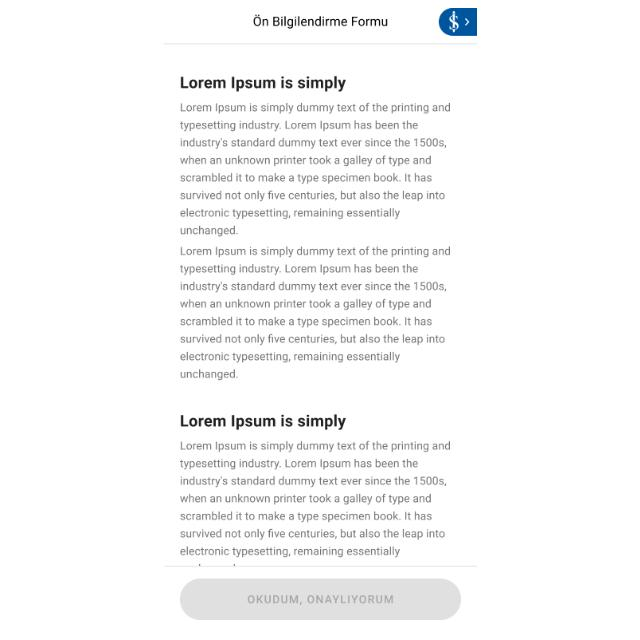QLabel: (174, 99, 456, 388), (175, 440, 458, 560), (176, 74, 350, 92), (174, 412, 346, 430), (250, 14, 388, 28), (242, 594, 398, 604)
VAppBar: (164, 1, 476, 44)
VBtn: (180, 578, 460, 622)
VFooter: (164, 566, 476, 640)
VImg: (438, 8, 474, 36)
